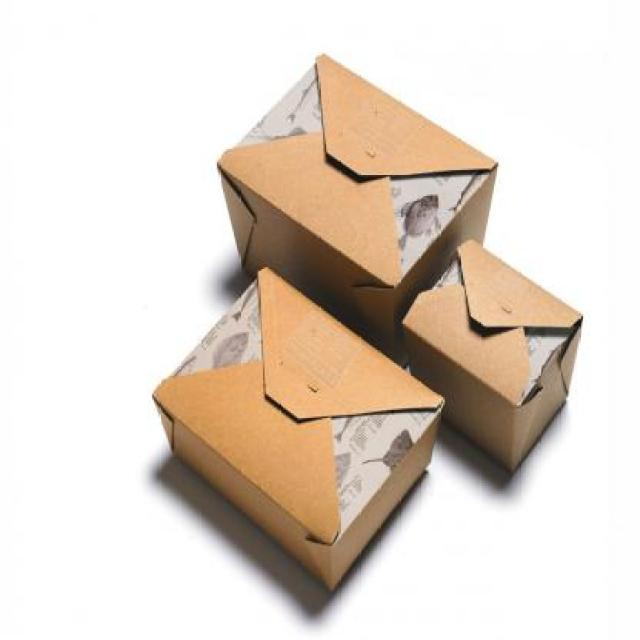box: (140, 258, 448, 622), (201, 44, 522, 330), (402, 234, 590, 506)
